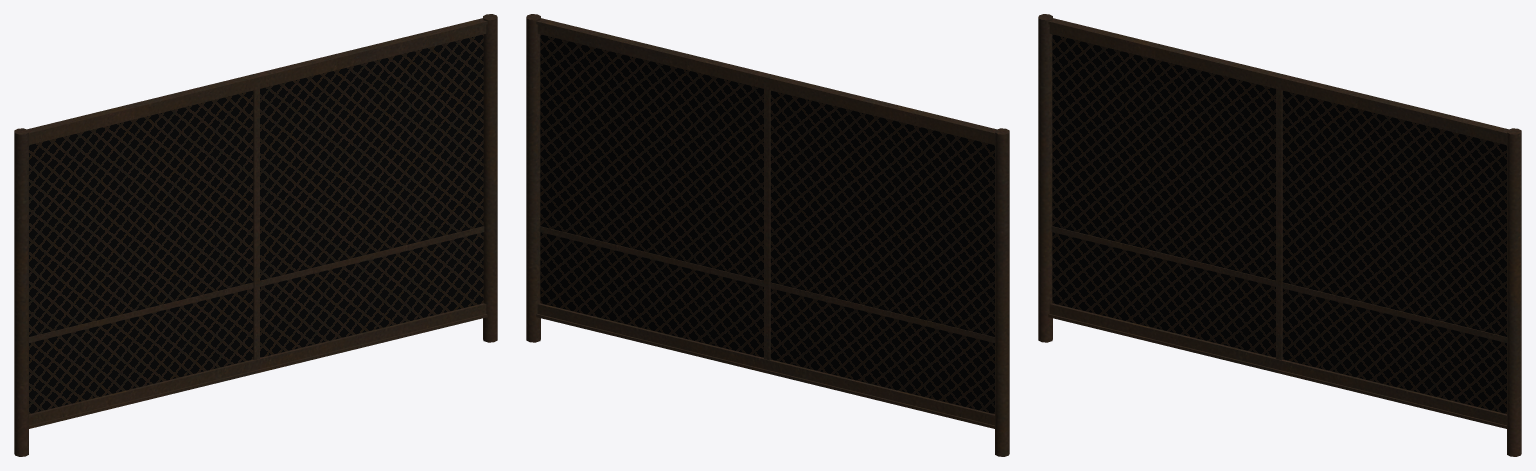
Rendered from fence_e_1.obj.
The picture shows the model from 3 angles, left to right: view 1: azimuth 30°, elevation 25°; view 2: azimuth 150°, elevation 25°; view 3: azimuth 330°, elevation 25°; orthographic projection.
Parts seen in each view (by area): view 1: fence_e_1; view 2: fence_e_1; view 3: fence_e_1.
Part boxes in pixels (left/top/right/bottom): fence_e_1: left=14, top=14, right=497, bottom=456; fence_e_1: left=526, top=14, right=1009, bottom=456; fence_e_1: left=1038, top=14, right=1521, bottom=456.
Bounding box in the file's own units: 3.6 × 2.3 × 0.1.
